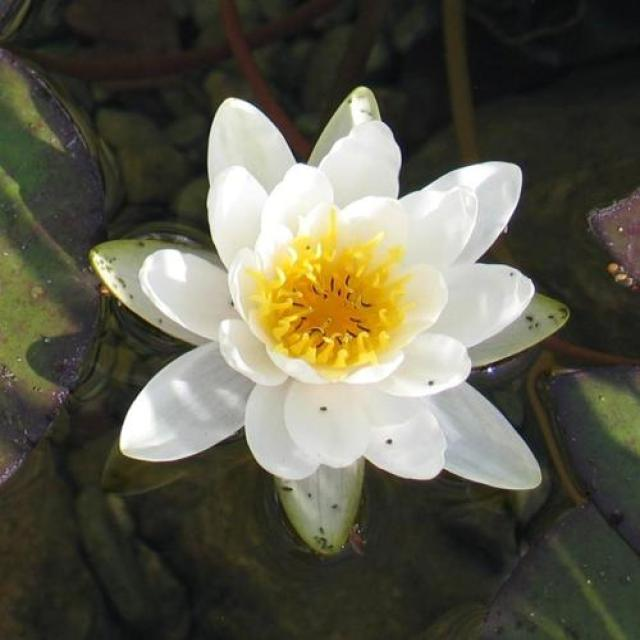water-lily: (80, 41, 640, 596)
